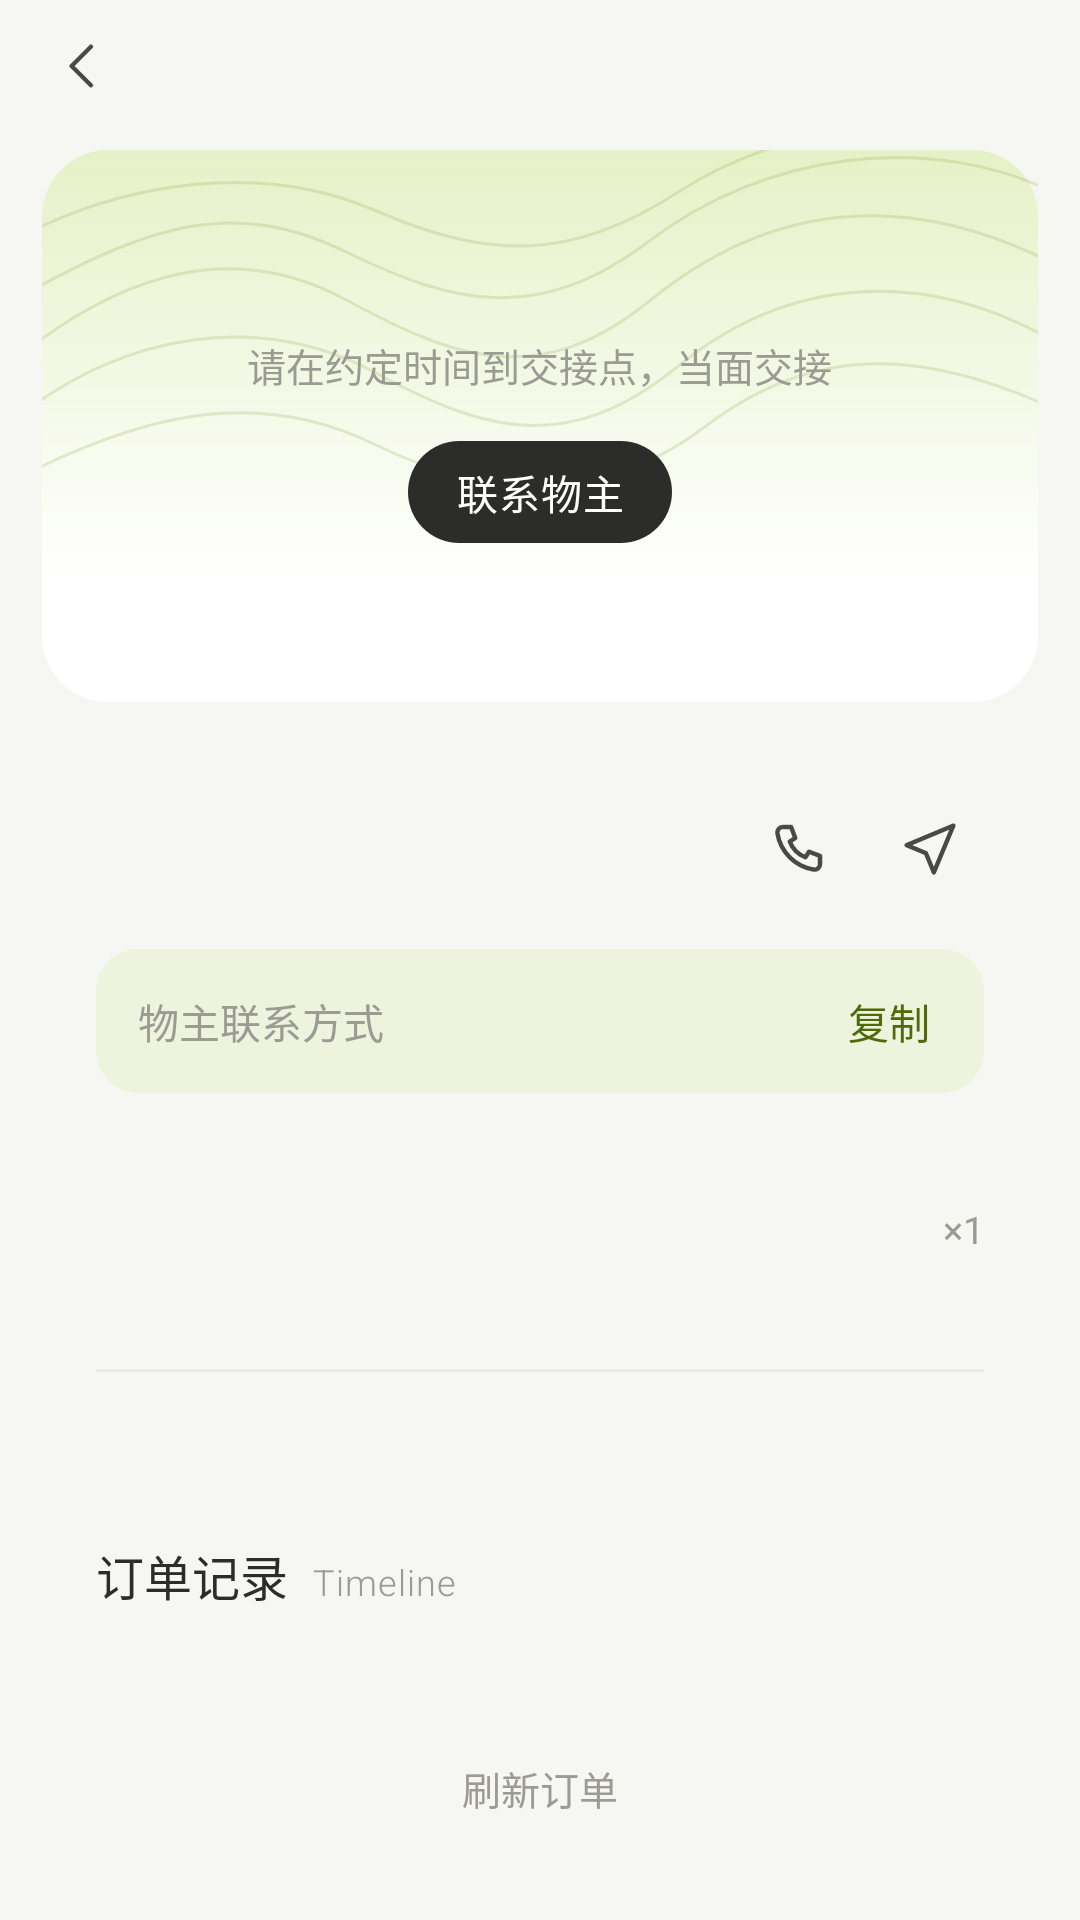

Icons on this 1080 x 1920 Android screen, each with its box as (x1, y1, x2, y2):
导航: (904, 823, 956, 875)
电话: (775, 824, 823, 872)
返回: (69, 44, 93, 88)
